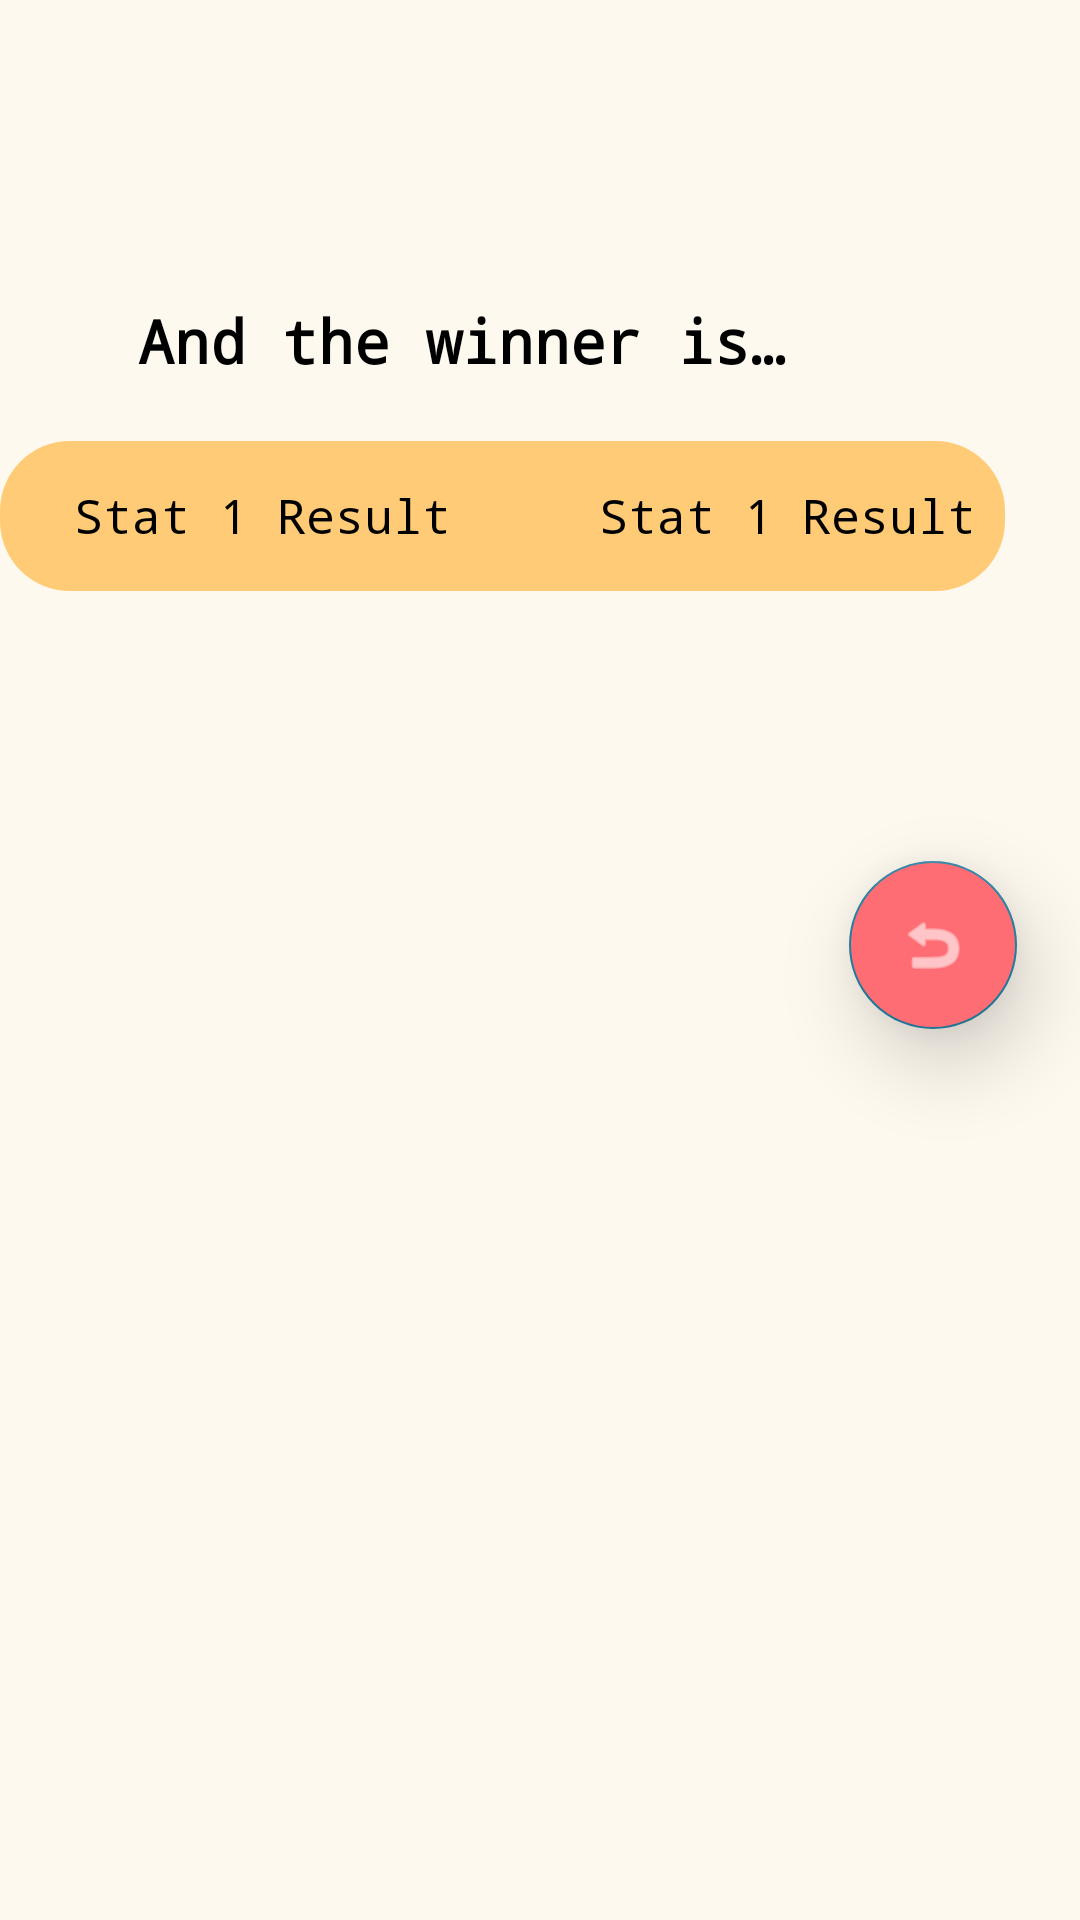

Icon bounding boxes for this 1080 x 1920 phone screenshot, format (x1, y1, x2, y2):
revert: (849, 861, 1017, 1029)
